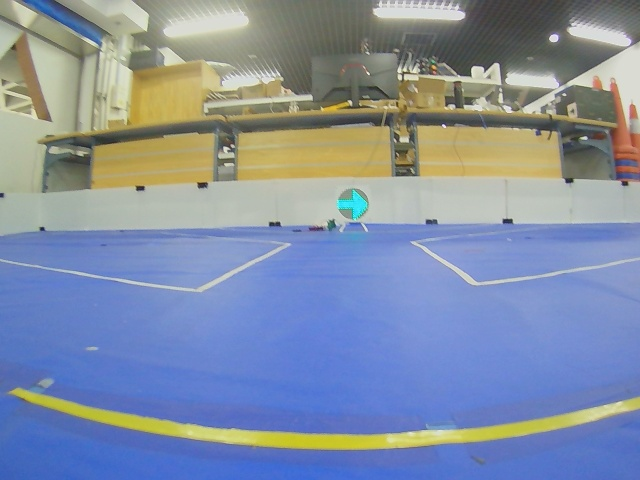right_green: (337, 188, 369, 221)
